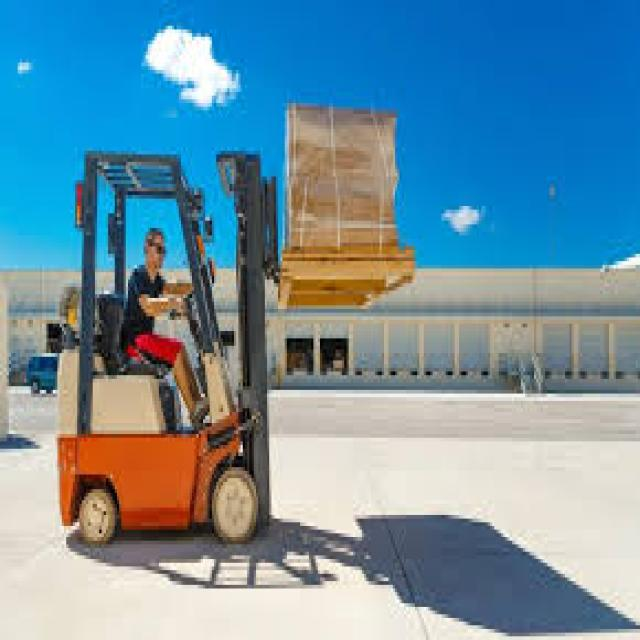Person: (120, 228, 215, 419)
